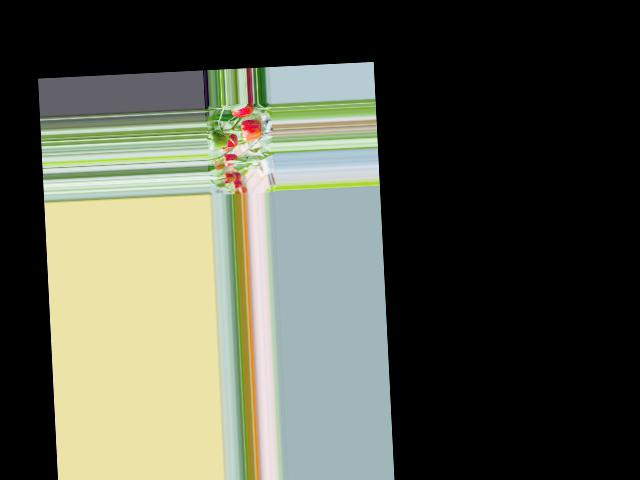bell_pepper: (219, 153, 242, 168)
